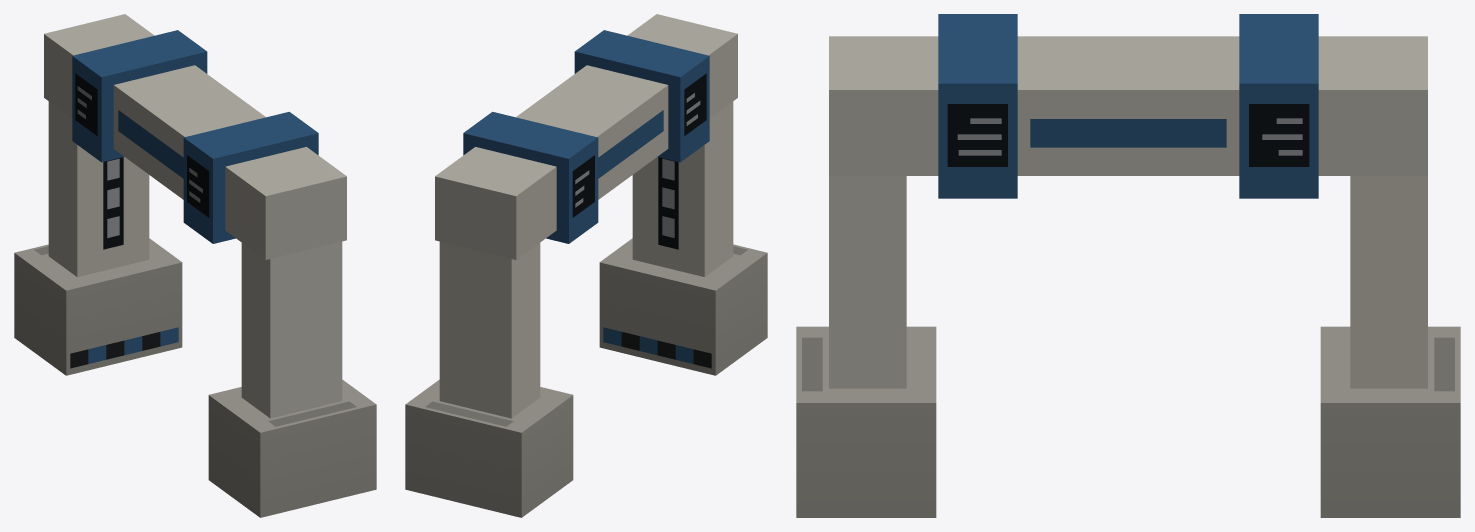
File: machine.scanner.white.glb
3 renders of one model, left to right at view 1: azimuth 30°, elevation 25°; view 2: azimuth 150°, elevation 25°; view 3: azimuth 270°, elevation 25°, orthographic. The views are drawn at different scales.
Visible parts, largest first — view 1: machine_scanner_white; view 2: machine_scanner_white; view 3: machine_scanner_white.
Part boxes in pixels (x1,y1,x2,y2): machine_scanner_white: (14,14,376,517); machine_scanner_white: (405,14,767,517); machine_scanner_white: (796,14,1460,517).
Size of what is drawn, in the model's own units: 1.14 by 3 by 4.19.
